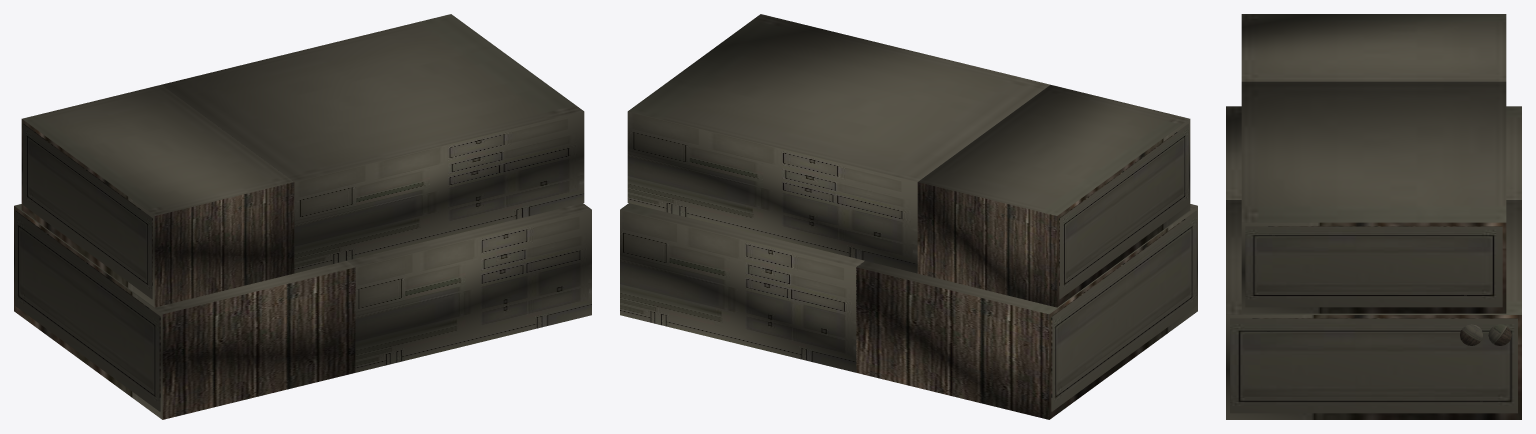
The model's file is TruckPart_01.fbx.
3 renders of one model, left to right at view 1: azimuth 30°, elevation 25°; view 2: azimuth 150°, elevation 25°; view 3: azimuth 270°, elevation 25°, orthographic.
Visible parts, largest first — view 1: cubus_faun_912_21c.000, cubus_faun_912_21c.001; view 2: cubus_faun_912_21c.000, cubus_faun_912_21c.001; view 3: cubus_faun_912_21c.000, cubus_faun_912_21c.001.
Boxes of the visible parts, x1,y1,x2,y2 form: cubus_faun_912_21c.000: (161, 14, 591, 372); cubus_faun_912_21c.001: (14, 85, 355, 419); cubus_faun_912_21c.000: (620, 14, 1050, 372); cubus_faun_912_21c.001: (856, 85, 1197, 419); cubus_faun_912_21c.000: (1226, 81, 1521, 419); cubus_faun_912_21c.001: (1226, 14, 1521, 199).
Bounding box in the file's own units: 2.59 × 1.13 × 1.53.
